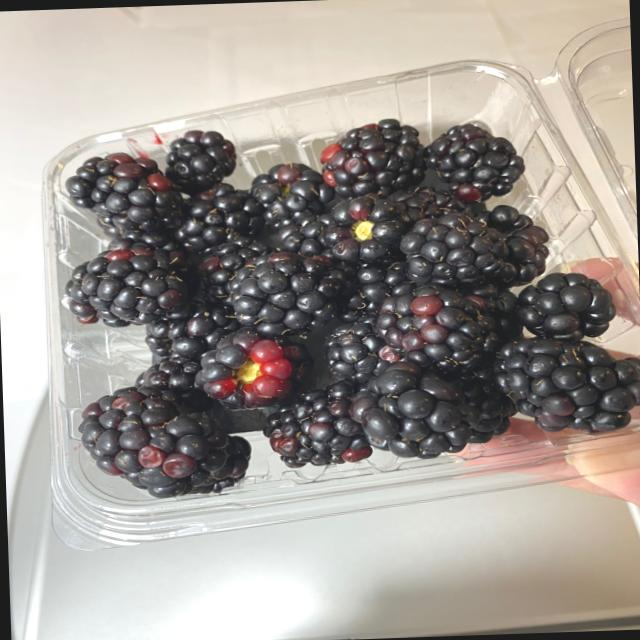blackberries: (57, 90, 599, 485)
